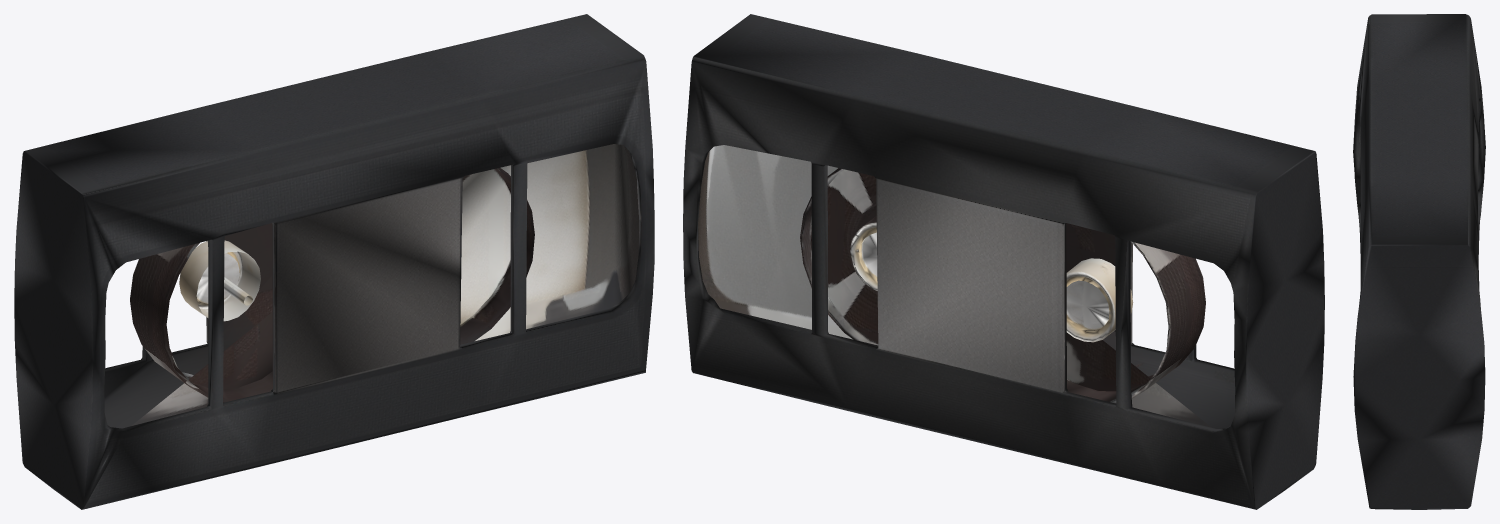
Rendered from Cassette.fbx.
3 views of the same model, side by side, from view 1: azimuth 30°, elevation 25°; view 2: azimuth 150°, elevation 25°; view 3: azimuth 270°, elevation 25° (orthographic). The views are drawn at different scales.
Parts seen in each view (by area): view 1: Mesh_0; view 2: Mesh_0; view 3: Mesh_0.
Part boxes in pixels (x1,y1,x2,y2): Mesh_0: (14,14,654,509); Mesh_0: (683,14,1324,509); Mesh_0: (1353,14,1485,509).
Size of the model in its own units: 100 by 54.23 by 24.48.
Materials: 1 (1 with a texture image).
